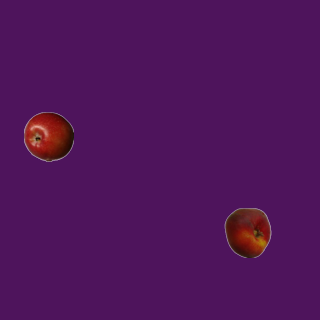Apple Braeburn: (23, 111, 73, 161)
Nectarine Flat: (222, 207, 272, 257)
